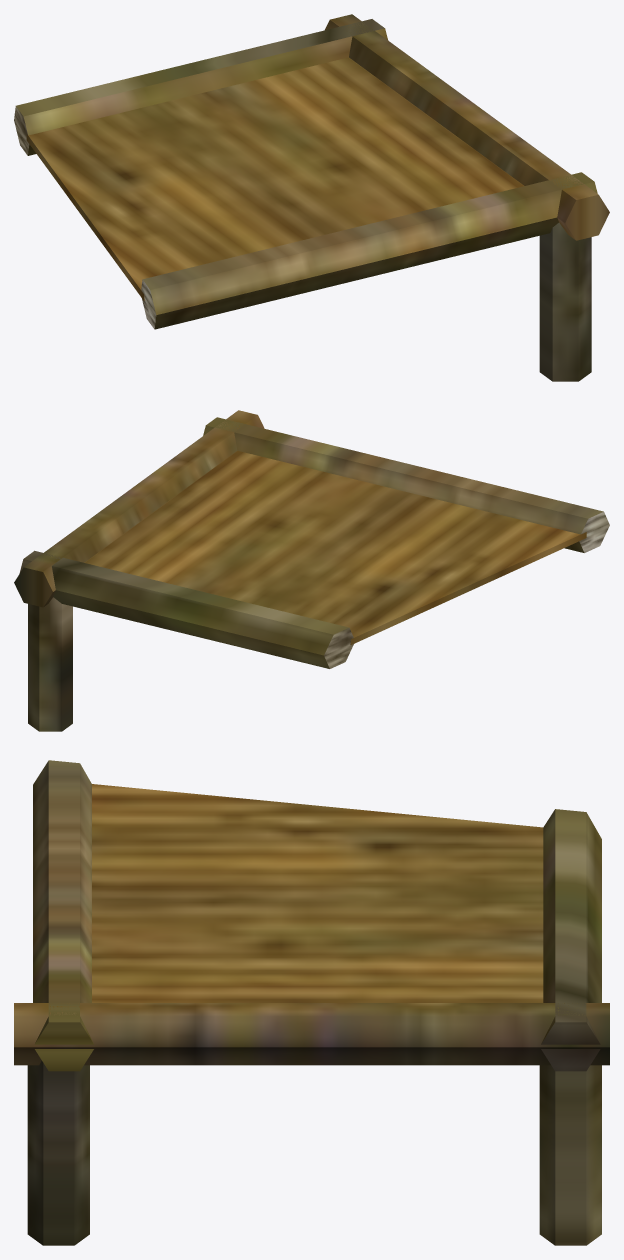
File: 1half_table.fbx
The picture shows the model from 3 angles, top to bottom: view 1: azimuth 30°, elevation 25°; view 2: azimuth 150°, elevation 25°; view 3: azimuth 270°, elevation 25°; orthographic projection. The views are drawn at different scales.
Visible parts, largest first — view 1: 1half table; view 2: 1half table; view 3: 1half table.
Part boxes in pixels (x1,y1,x2,y2): 1half table: (14, 14, 609, 381); 1half table: (14, 410, 609, 731); 1half table: (14, 760, 609, 1245).
Size of the model in its own units: 3.02 by 2.89 by 1.21.
Materials: 1 (1 with a texture image).
